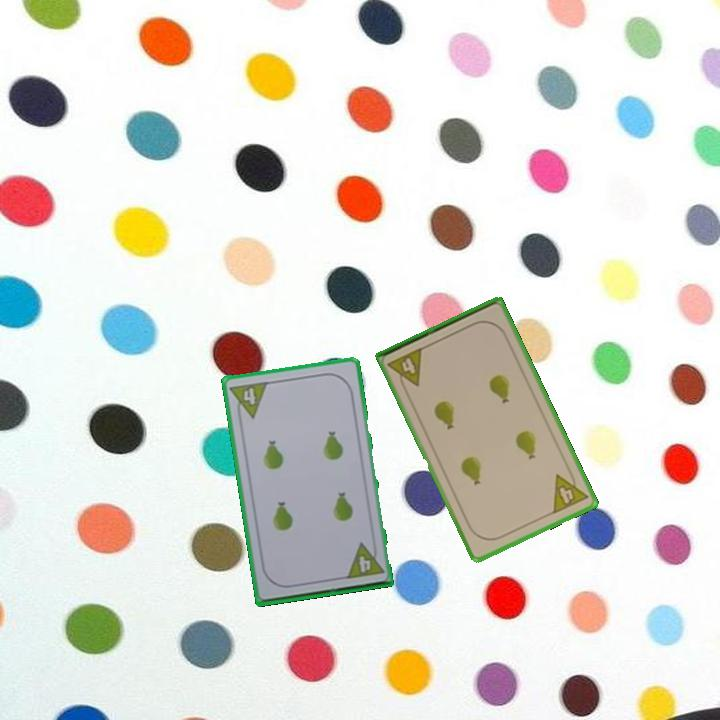4p: (549, 465, 591, 517), (384, 344, 426, 394), (226, 378, 271, 423), (342, 538, 387, 582)
